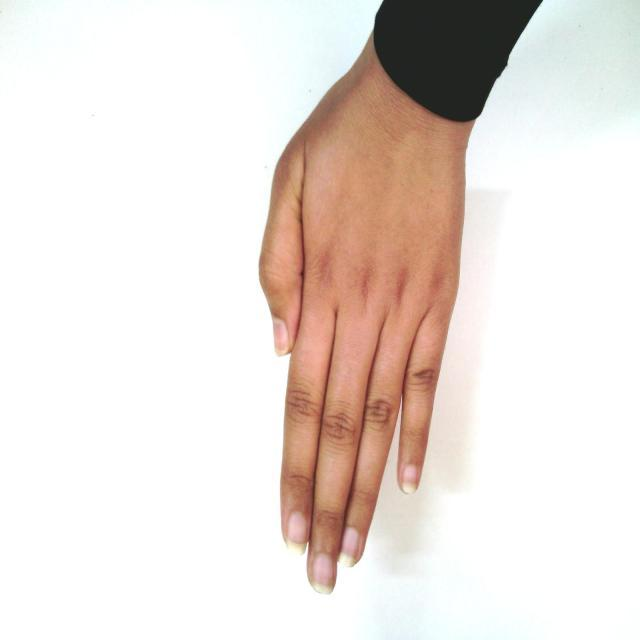Fingernail: (310, 554, 334, 594), (287, 513, 308, 554), (338, 528, 359, 568), (273, 319, 289, 357), (400, 464, 418, 494)
